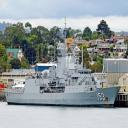Fragata: (5, 21, 122, 108)
